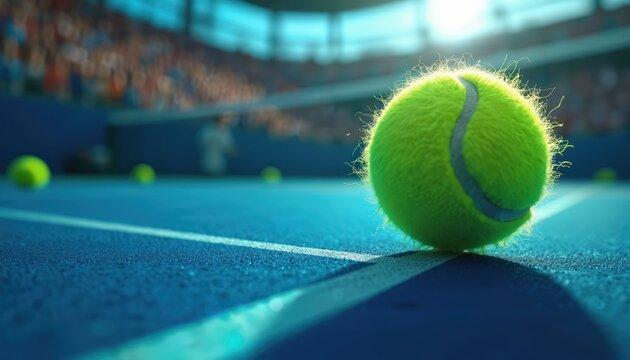ball_tennis: (364, 64, 558, 260), (9, 158, 49, 193)
